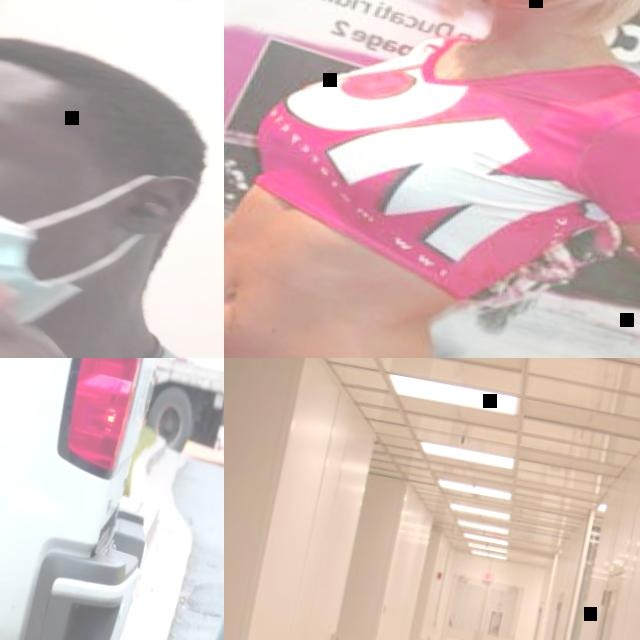Mask: (0, 117, 197, 358)
NO-Hardhat: (0, 13, 211, 133)
NO-Safety Vest: (224, 0, 640, 358)
Person: (224, 0, 640, 358), (0, 8, 224, 358)
vehicle: (0, 358, 224, 640)
